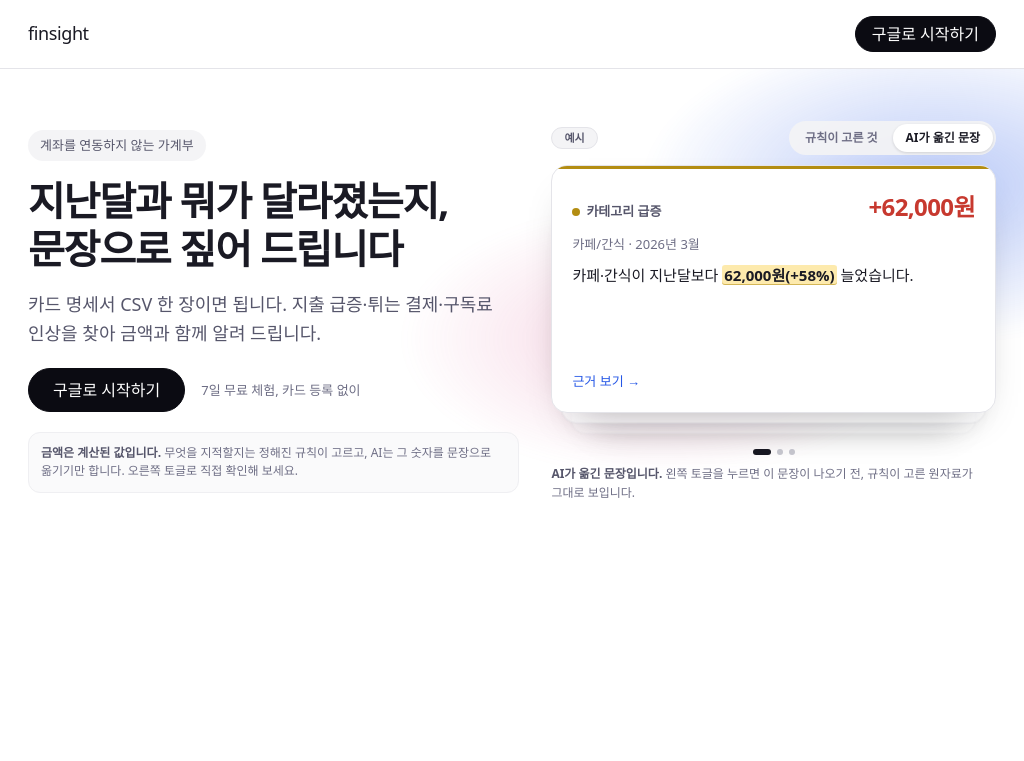
it: marketing page › shows the raw signal fields behind the sentence when the toggle is pressed
Click the button "규칙이 고른 것": x=841, y=138 [792, 124, 891, 152]
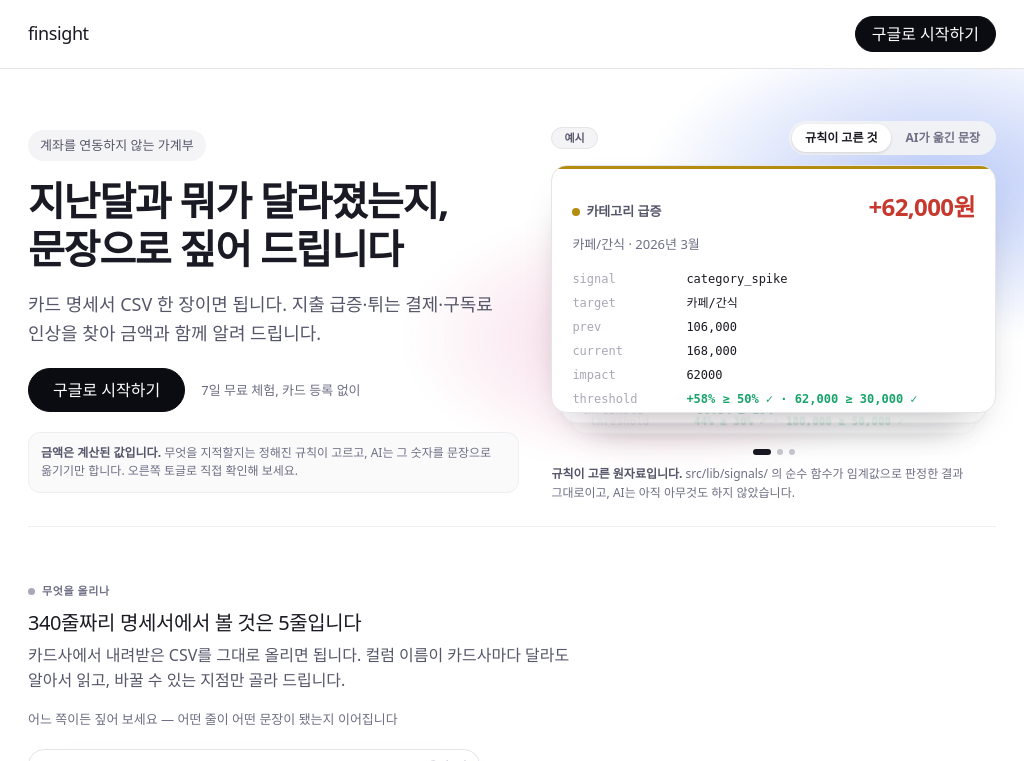
expect the text "category_spike" is shown: met, box [686, 272, 788, 286]
